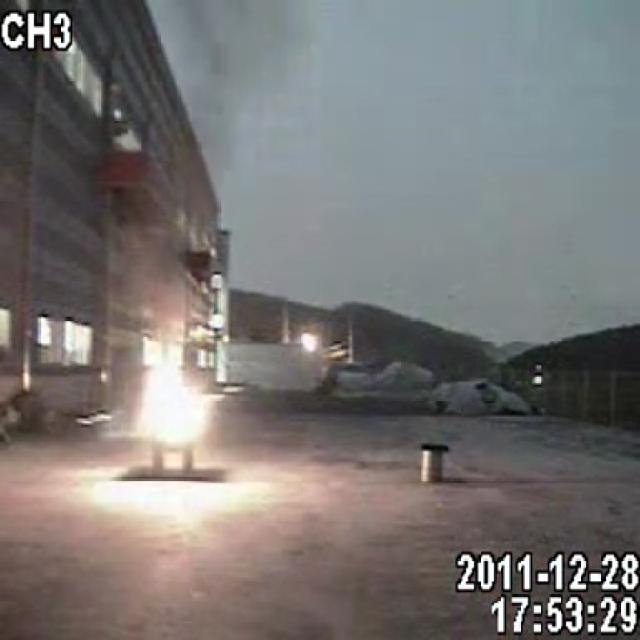Fire: (132, 349, 220, 442)
